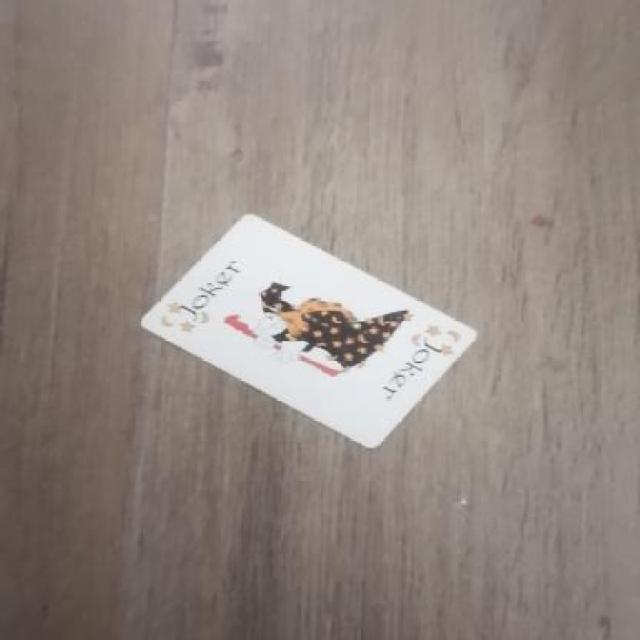BLACK JOKER: (146, 243, 260, 343)
